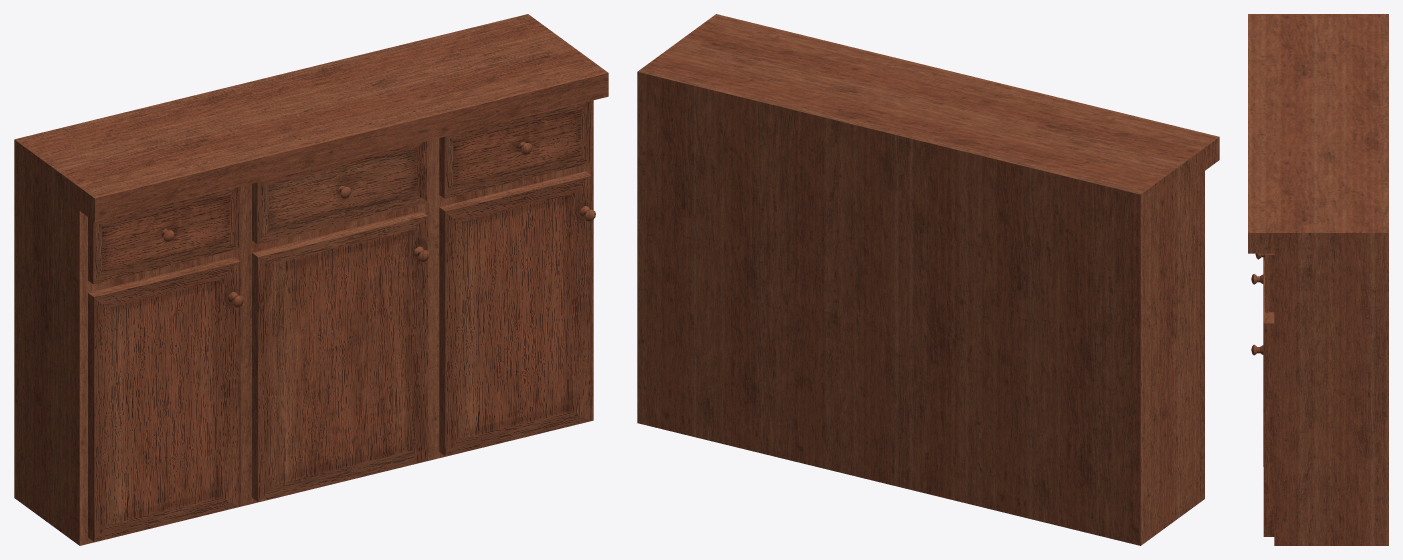
File: SM_Furniture_Cabinet_a_001.fbx
3 renders of one model, left to right at view 1: azimuth 30°, elevation 25°; view 2: azimuth 150°, elevation 25°; view 3: azimuth 270°, elevation 25°, orthographic. The views are drawn at different scales.
Visible parts, largest first — view 1: SM_Furniture_Cabinet_a_001; view 2: SM_Furniture_Cabinet_a_001; view 3: SM_Furniture_Cabinet_a_001.
Boxes of the visible parts, x1=… form: SM_Furniture_Cabinet_a_001: x1=14, y1=14, x2=608, y2=545; SM_Furniture_Cabinet_a_001: x1=637, y1=14, x2=1219, y2=545; SM_Furniture_Cabinet_a_001: x1=1248, y1=14, x2=1388, y2=545.
Bounding box in the file's own units: 150 × 100 × 40.76.
